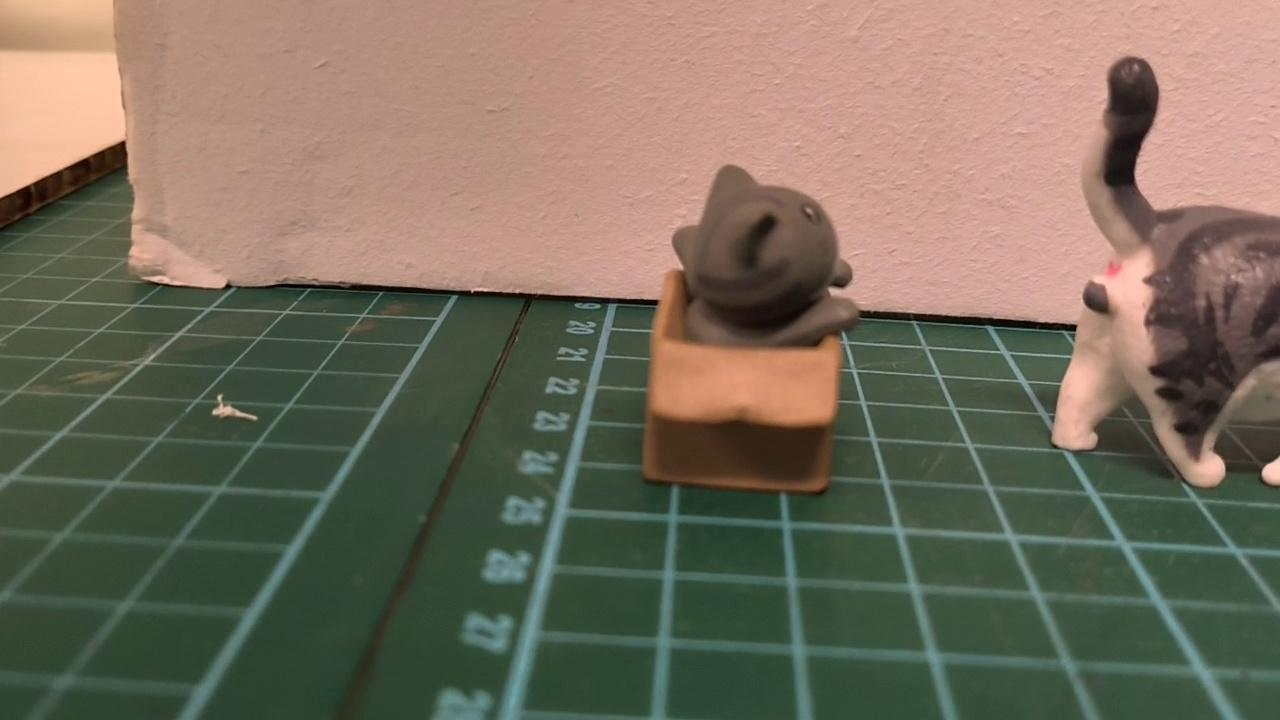pet: (666, 162, 861, 347)
